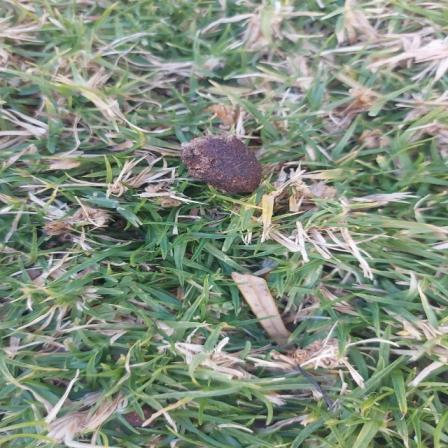dog-poop: (174, 128, 275, 200)
